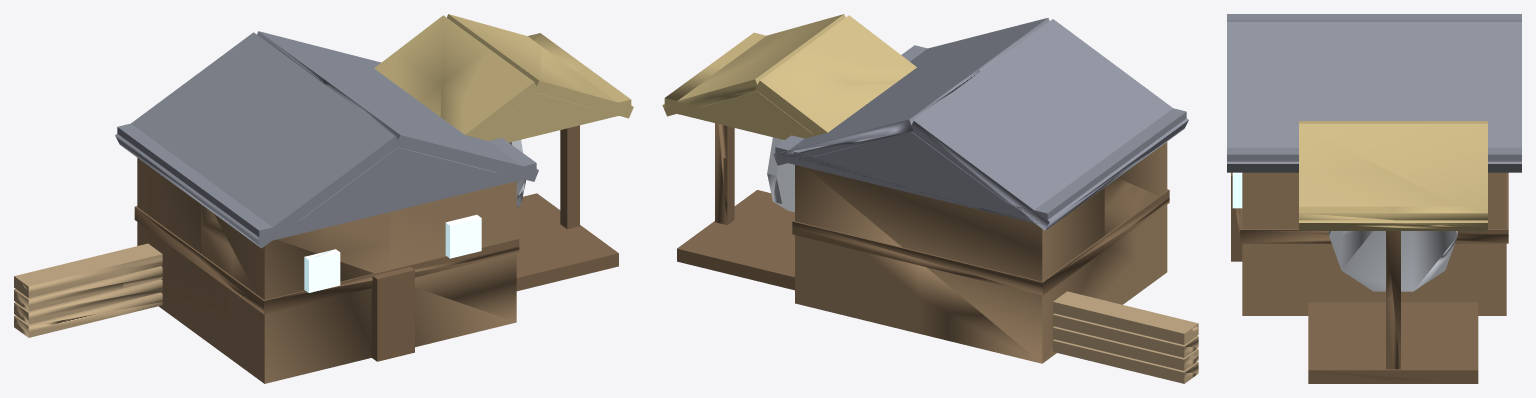
The model's file is sawmill.glb.
The picture shows the model from 3 angles, left to right: view 1: azimuth 30°, elevation 25°; view 2: azimuth 150°, elevation 25°; view 3: azimuth 270°, elevation 25°; orthographic projection. The views are drawn at different scales.
Visible parts, largest first — view 1: SawmillWall; view 2: SawmillWall; view 3: SawmillWall.
Boxes of the visible parts, <box> form: SawmillWall: <box>14,14,633,383</box>; SawmillWall: <box>662,14,1198,383</box>; SawmillWall: <box>1227,14,1521,383</box>.
Bounding box in the file's own units: 3.37 × 1.35 × 1.56.
